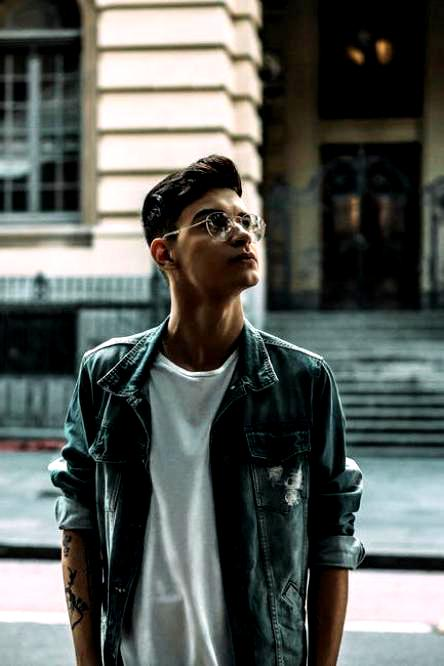face: (180, 188, 261, 291)
